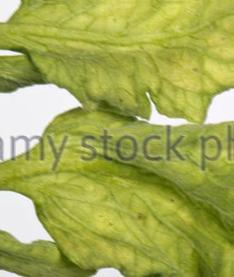Tomato leaf mosaic virus: (4, 89, 234, 277), (0, 0, 234, 125)
